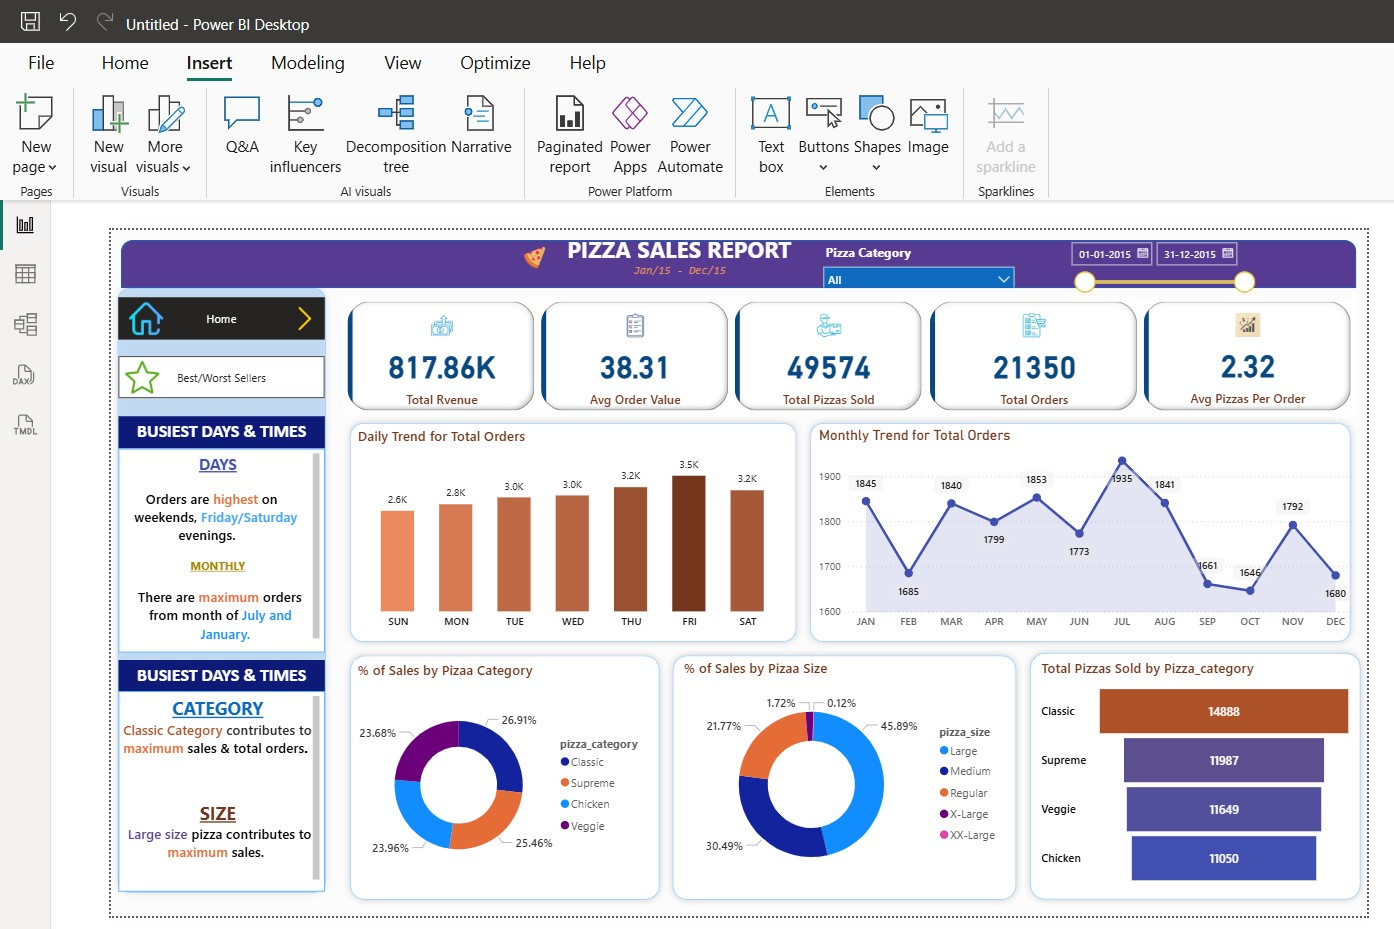

This screenshot's page, from the dashboard's own definition file:
{"tool":"powerbi","page":{"name":"Home","canvas":[1500,820],"ordinal":0},"visuals":[{"type":"shape","box":[0,61.8,264.5,738.2],"z":0},{"type":"cardVisual","fields":{"Data":["pizza_sales.Total Rvenue","pizza_sales.Avg Order Value","pizza_sales.Total Pizzas Sold"]},"box":[277.5,80,696.2,140],"z":1000},{"type":"cardVisual","fields":{"Data":["pizza_sales.Total Orders","pizza_sales.Avg Pizzas Per Order"]},"box":[973.8,80,513.8,140],"z":2000},{"type":"shape","box":[12.5,11.2,1475,57.5],"z":3000},{"type":"textbox","box":[531.2,0,295,46.2],"z":4000},{"type":"textbox","box":[618.8,32.5,120,28.8],"z":5000},{"type":"image","box":[412.5,15,188.8,36.2],"z":6000},{"type":"shape","box":[277.5,222.5,548.8,277.5],"z":7000},{"type":"columnChart","title":"Daily Trend for Total Orders","fields":{"Category":["pizza_sales.Order Day"],"Y":["pizza_sales.Total Orders"]},"box":[290,235,525,251.2],"z":8000},{"type":"shape","box":[826.2,222.5,661.2,277.5],"z":9000},{"type":"areaChart","title":"Monthly Trend for Total Orders","fields":{"Category":["pizza_sales.Order Month"],"Y":["pizza_sales.Total Orders"]},"box":[840,235,647.5,251.2],"z":10000},{"type":"shape","box":[277.6,500,385.5,307.9],"z":11000},{"type":"shape","box":[663.2,500,426.3,307.9],"z":12000},{"type":"shape","box":[1089.5,497.4,410.5,310.5],"z":13000},{"type":"donutChart","title":"% of Sales by Pizaa Category","fields":{"Category":["pizza_sales.pizza_category"],"Y":["pizza_sales.Total Rvenue"]},"box":[289.5,513.2,360.5,277.6],"z":14000},{"type":"donutChart","title":"% of Sales by Pizaa Size","fields":{"Y":["pizza_sales.Total Rvenue"],"Category":["pizza_sales.pizza_size"]},"box":[678.9,511.8,394.7,278.9],"z":15000},{"type":"funnel","title":"Total Pizzas Sold by Pizza_category","fields":{"Category":["pizza_sales.pizza_category"],"Y":["pizza_sales.Total Pizzas Sold"]},"box":[1105.3,511.8,381.6,278.9],"z":16000},{"type":"textbox","box":[9.2,222.4,246.1,38.2],"z":17000},{"type":"textbox","box":[9.2,260.5,246.1,243.4],"z":17001},{"type":"textbox","box":[9.2,513.2,246.1,38.2],"z":17002},{"type":"textbox","box":[9.2,551.3,246.1,239.5],"z":17003},{"type":"slicer","fields":{"Values":["pizza_sales.pizza_category"]},"box":[840,11.4,248.6,57.1],"z":17004},{"type":"slicer","fields":{"Values":["pizza_sales.order_date"]},"box":[1134.3,4.3,240,75.7],"z":17005},{"type":"pageNavigator","box":[9,80.6,246.3,50.7],"z":17006},{"type":"pageNavigator","box":[9,150.7,246.3,50.7],"z":17007},{"type":"image","box":[207.5,86.6,47.8,38.8],"z":17008},{"type":"image","box":[11.9,80.6,59.7,50.7],"z":17009},{"type":"image","box":[9,150.7,56.7,50.7],"z":17010}]}

Visuals, with their boxes on the page's 1500x820 design canvas (x1, y1, x2, y2). These are canvas units, not pixel positions in the 1394x929 screenshot, which may show the page scaled, cropped or inside an application window:
shape: BBox(0, 62, 264, 800)
cardVisual - pizza_sales.Total Rvenue x pizza_sales.Avg Order Value: BBox(278, 80, 974, 220)
cardVisual - pizza_sales.Total Orders x pizza_sales.Avg Pizzas Per Order: BBox(974, 80, 1488, 220)
shape: BBox(12, 11, 1488, 69)
textbox: BBox(531, 0, 826, 46)
textbox: BBox(619, 32, 739, 61)
image: BBox(412, 15, 601, 51)
shape: BBox(278, 222, 826, 500)
"Daily Trend for Total Orders" columnChart: BBox(290, 235, 815, 486)
shape: BBox(826, 222, 1487, 500)
"Monthly Trend for Total Orders" areaChart: BBox(840, 235, 1488, 486)
shape: BBox(278, 500, 663, 808)
shape: BBox(663, 500, 1090, 808)
shape: BBox(1090, 497, 1500, 808)
"% of Sales by Pizaa Category" donutChart: BBox(290, 513, 650, 791)
"% of Sales by Pizaa Size" donutChart: BBox(679, 512, 1074, 791)
"Total Pizzas Sold by Pizza_category" funnel: BBox(1105, 512, 1487, 791)
textbox: BBox(9, 222, 255, 261)
textbox: BBox(9, 260, 255, 504)
textbox: BBox(9, 513, 255, 551)
textbox: BBox(9, 551, 255, 791)
slicer - pizza_sales.pizza_category: BBox(840, 11, 1089, 68)
slicer - pizza_sales.order_date: BBox(1134, 4, 1374, 80)
pageNavigator: BBox(9, 81, 255, 131)
pageNavigator: BBox(9, 151, 255, 201)
image: BBox(208, 87, 255, 125)
image: BBox(12, 81, 72, 131)
image: BBox(9, 151, 66, 201)
